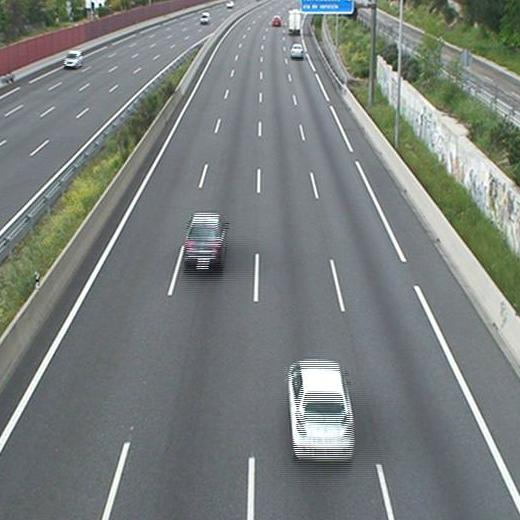car: (287, 358, 355, 464), (182, 213, 227, 274), (291, 43, 304, 59), (271, 14, 281, 24)
small-truck: (288, 9, 302, 35)
